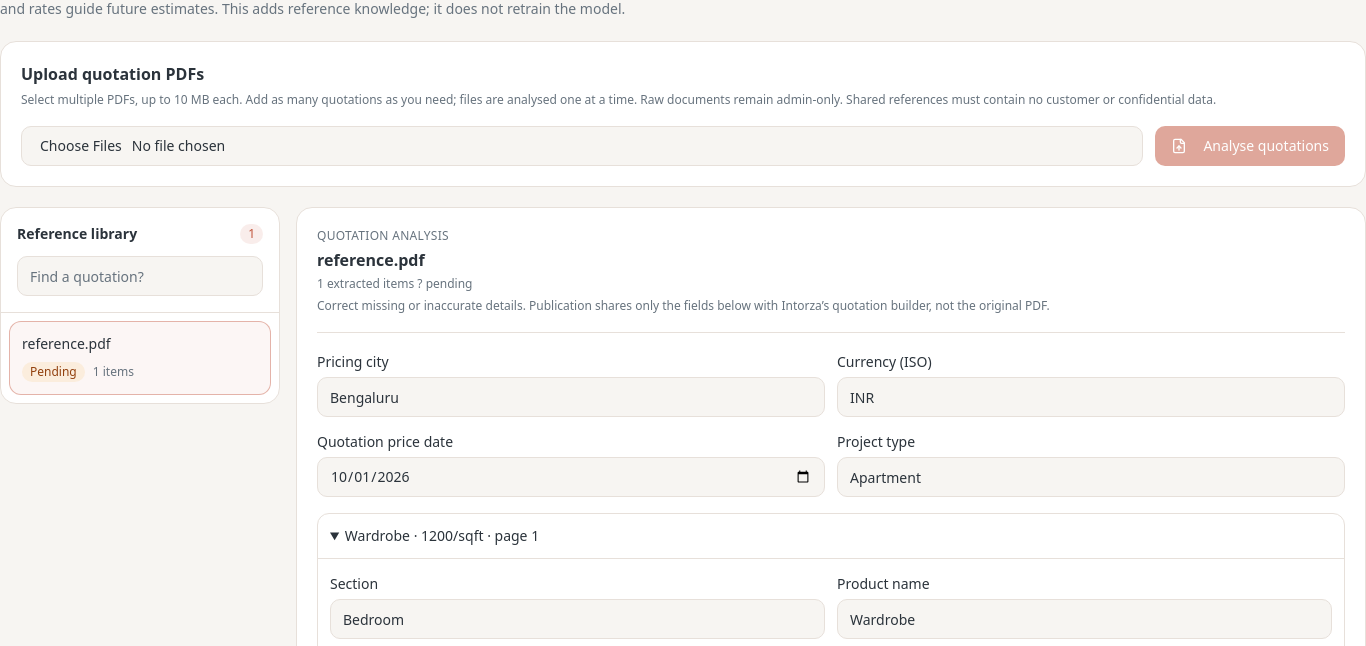
keeps corrections and clears approval confirmation when a reference changes
Click the button "reference.pdf pending 1 items": (66, 344) [9,321,271,395]
(page scrolled)
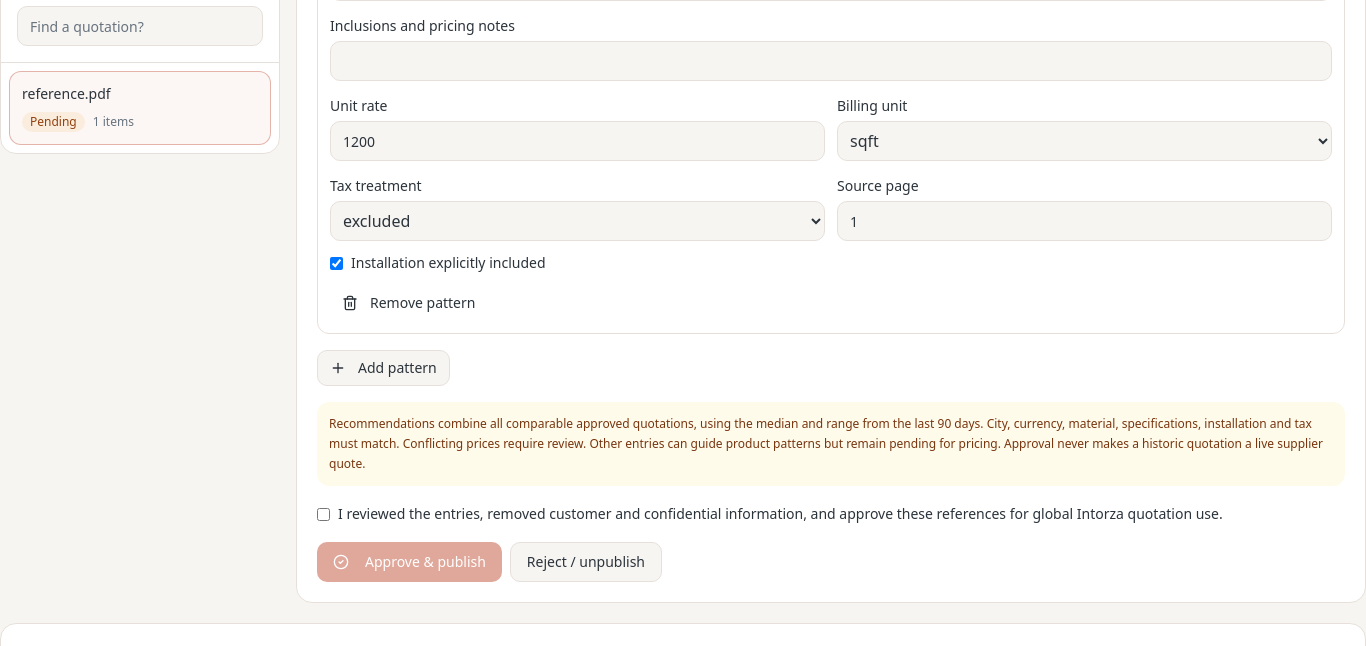
Click the checkbox labelled "I reviewed the entries": (324, 514) [317,508,330,521]
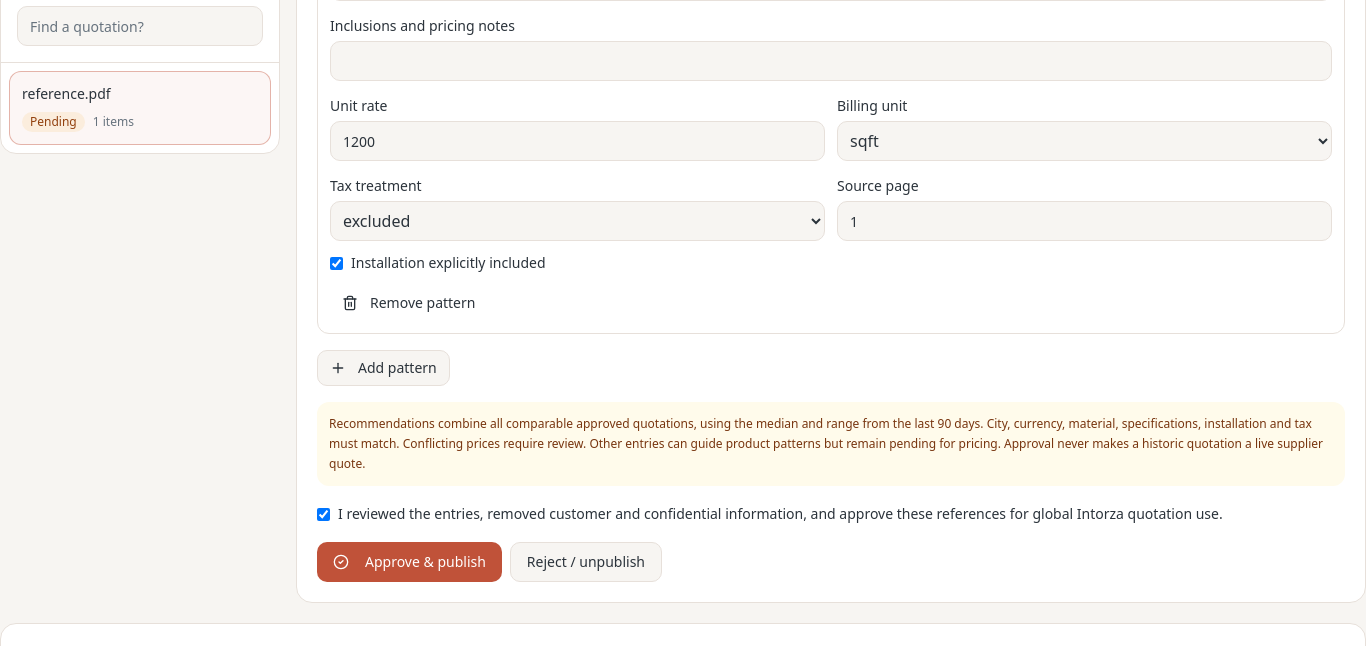
Replace the text in the field labelled "Unit rate" with "1350": (578, 141) [330,121,825,161]
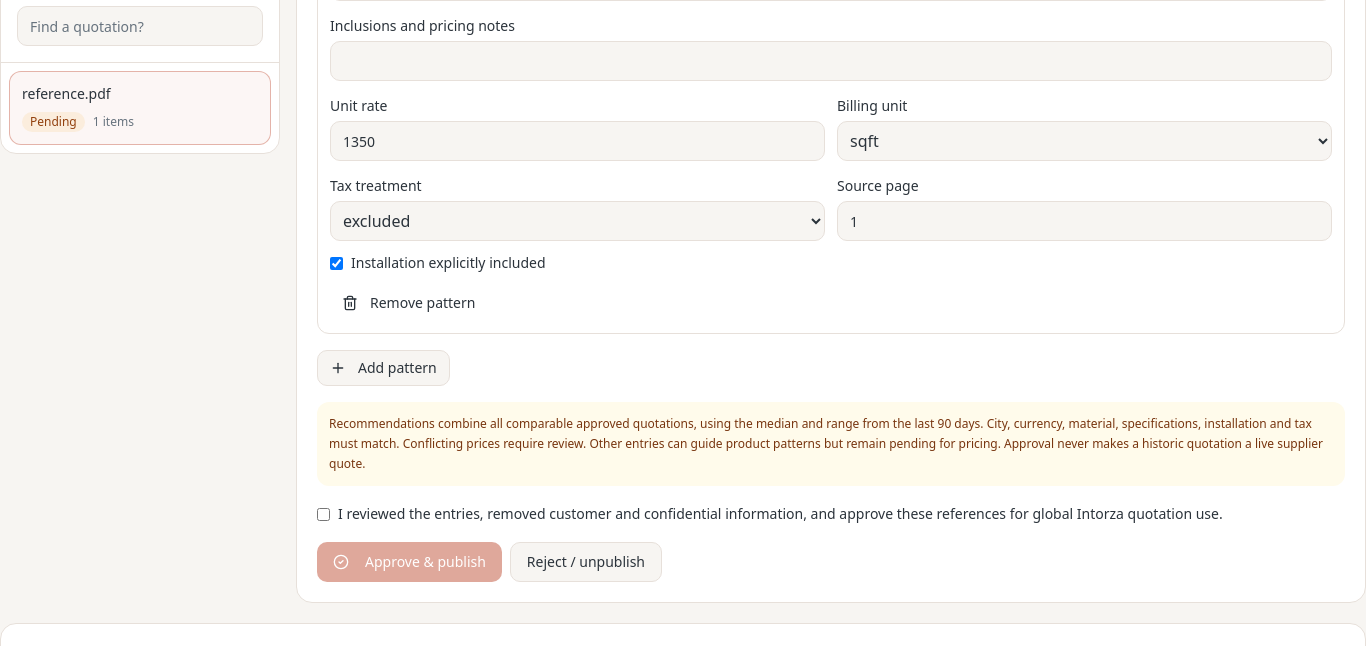
Result: the button "Approve & publish" is disabled at [317,542,502,582]
